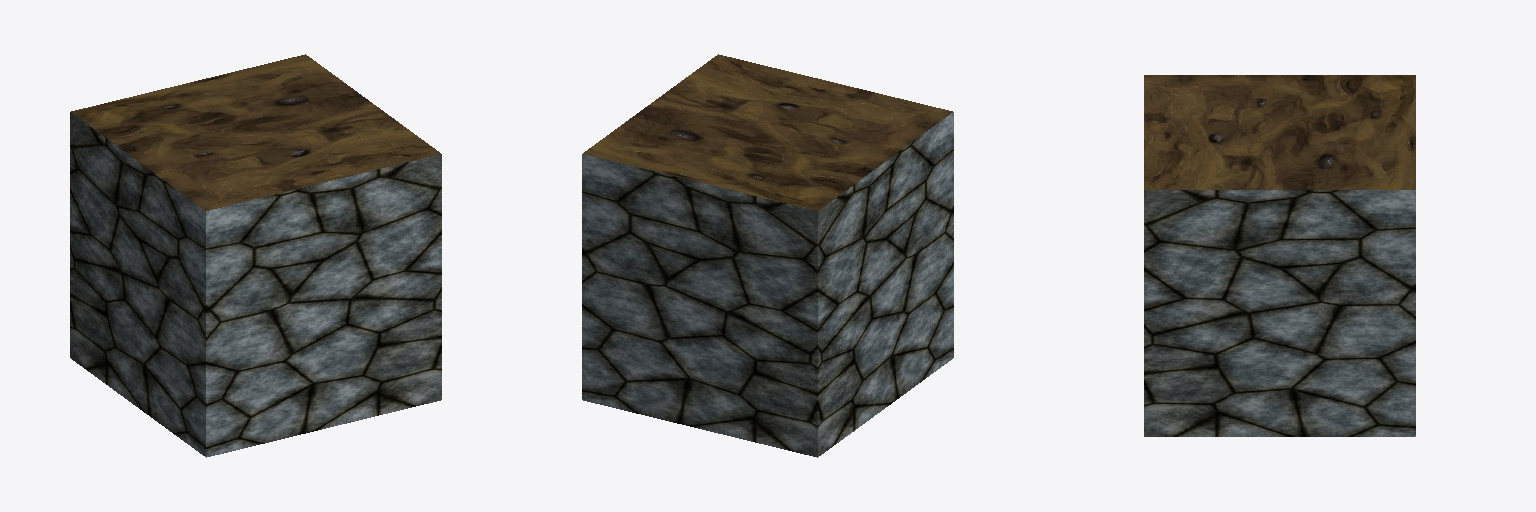
3 views of the same model, side by side, from view 1: azimuth 30°, elevation 25°; view 2: azimuth 150°, elevation 25°; view 3: azimuth 270°, elevation 25° (orthographic).
Parts seen in each view (by area): view 1: Cube; view 2: Cube; view 3: Cube.
Part boxes in pixels (x1,y1,x2,y2): Cube: (70,54,441,457); Cube: (582,54,953,457); Cube: (1144,75,1415,436).
Bounding box in the file's own units: 1 × 1 × 1.
Materials: 3 (2 with a texture image).